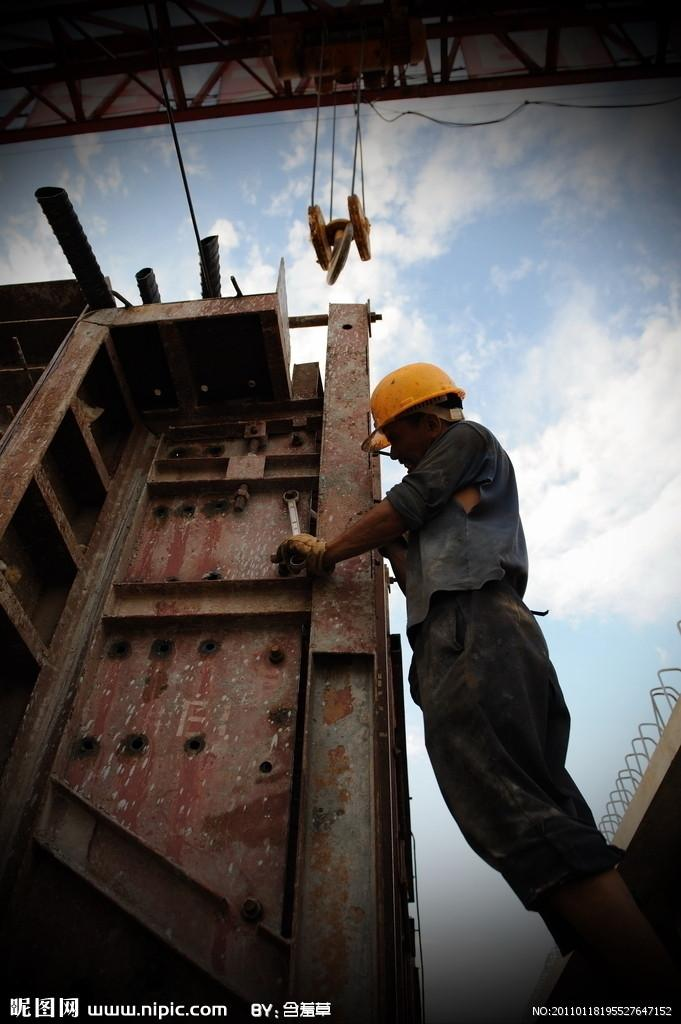helmet: (366, 361, 464, 445)
no_wear: (404, 422, 526, 609)
